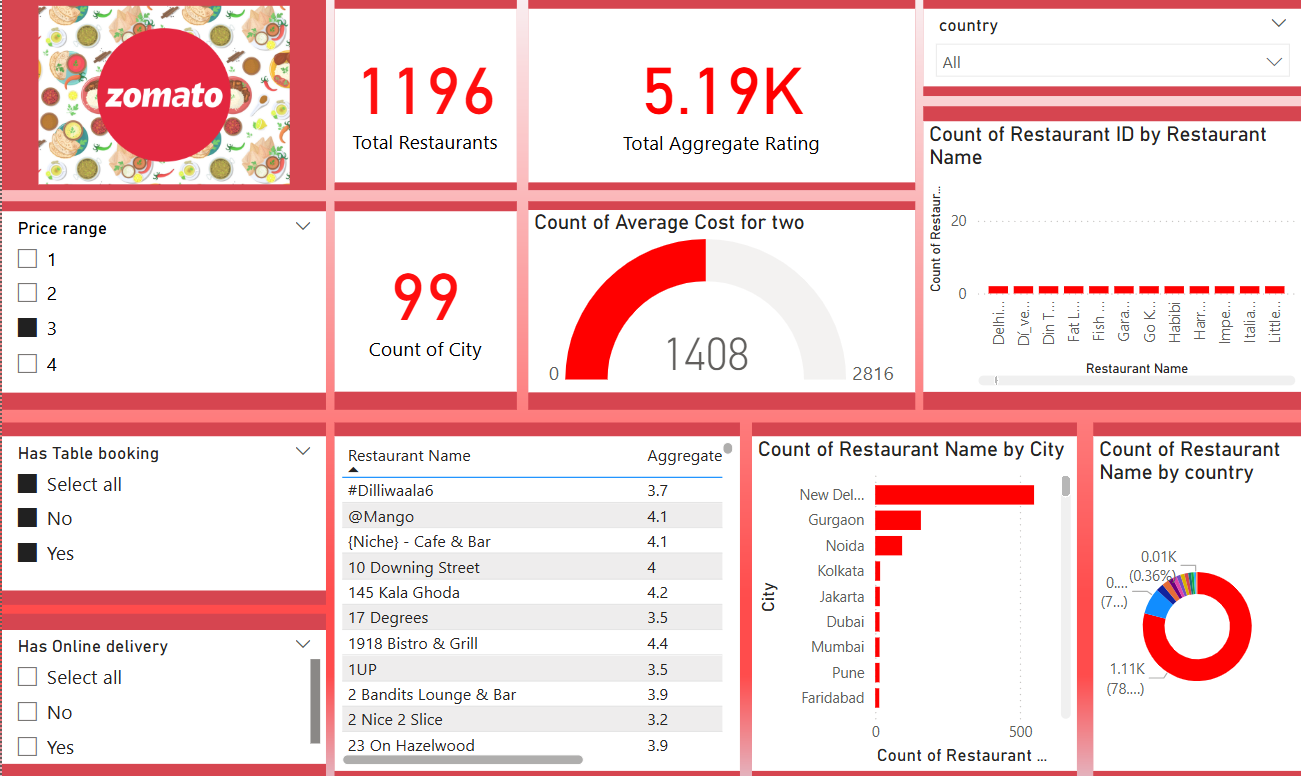

The page's visual inventory and layout, read from the dashboard file:
{"tool":"powerbi","page":{"name":"Page 1","canvas":[1280,720],"ordinal":0},"visuals":[{"type":"textbox","box":[274,0,150,157],"z":0},{"type":"textbox","box":[434,0,319,157],"z":1000},{"type":"textbox","box":[434,166,319,172],"z":2000},{"type":"textbox","box":[274,166,150,172],"z":3000},{"type":"textbox","box":[760,88,312,250],"z":4000},{"type":"textbox","box":[900,348,172,295],"z":5000},{"type":"textbox","box":[619,348,268,295],"z":6000},{"type":"textbox","box":[274.2,348.5,334,294.8],"z":7000},{"type":"textbox","box":[0,348.5,267,150.5],"z":8000},{"type":"textbox","box":[0,166,267,172.2],"z":9000},{"type":"slicer","fields":{"Values":["zomato.Price range"]},"box":[0,174.2,267,149.5],"z":10000},{"type":"slicer","fields":{"Values":["zomato.Has Table booking"]},"box":[0,359.8,267,126.8],"z":11000},{"type":"textbox","box":[0,0,267.4,157],"z":12000},{"type":"tableEx","fields":{"Values":["zomato.Restaurant Name","zomato.Aggregate rating","zomato.Average Cost for two"]},"box":[274.2,359.8,334,276.3],"z":13000},{"type":"image","box":[23.3,0,219.8,157],"z":14000},{"type":"textbox","box":[0,506.2,267,137.1],"z":15000},{"type":"slicer","fields":{"Values":["zomato.Has Online delivery"]},"box":[0,519.6,267,110.3],"z":16000},{"type":"donutChart","fields":{"Category":["zomato.country"],"Y":["CountNonNull(zomato.Restaurant Name)"]},"box":[900,360,172,276],"z":17000},{"type":"barChart","fields":{"Y":["CountNonNull(zomato.Restaurant Name)"],"Category":["zomato.City"]},"box":[619,360,268,276],"z":18000},{"type":"gauge","fields":{"Y":["CountNonNull(zomato.Average Cost for two)"]},"box":[434,173,319,150],"z":19000},{"type":"clusteredColumnChart","fields":{"Y":["CountNonNull(zomato.Restaurant ID)"],"Category":["zomato.Restaurant Name"]},"box":[760,100,312,223],"z":20000},{"type":"card","fields":{"Values":["zomato.Total Aggregate Rating"]},"box":[434,7,319,143],"z":21000},{"type":"textbox","box":[760,0,312,79],"z":22000},{"type":"slicer","fields":{"Values":["zomato.country"]},"box":[760,7,312,64],"z":23000},{"type":"card","fields":{"Values":["Count(zomato.City)"]},"box":[274,174,150,149],"z":24000},{"type":"card","fields":{"Values":["Sheet1.TotalRestaurants"]},"box":[274.5,7.1,150,142.9],"z":25000}]}

Visuals, with their boxes on the page's 1280x720 design canvas (x1, y1, x2, y2). These are canvas units, not pixel positions in the 1301x776 screenshot, which may show the page scaled, cropped or inside an application window:
textbox: 274/0/424/157
textbox: 434/0/753/157
textbox: 434/166/753/338
textbox: 274/166/424/338
textbox: 760/88/1072/338
textbox: 900/348/1072/643
textbox: 619/348/887/643
textbox: 274/348/608/643
textbox: 0/348/267/499
textbox: 0/166/267/338
slicer - zomato.Price range: 0/174/267/324
slicer - zomato.Has Table booking: 0/360/267/487
textbox: 0/0/267/157
tableEx - zomato.Restaurant Name x zomato.Aggregate rating: 274/360/608/636
image: 23/0/243/157
textbox: 0/506/267/643
slicer - zomato.Has Online delivery: 0/520/267/630
donutChart - zomato.country x CountNonNull(zomato.Restaurant Name): 900/360/1072/636
barChart - CountNonNull(zomato.Restaurant Name) x zomato.City: 619/360/887/636
gauge - CountNonNull(zomato.Average Cost for two): 434/173/753/323
clusteredColumnChart - CountNonNull(zomato.Restaurant ID) x zomato.Restaurant Name: 760/100/1072/323
card - zomato.Total Aggregate Rating: 434/7/753/150
textbox: 760/0/1072/79
slicer - zomato.country: 760/7/1072/71
card - Count(zomato.City): 274/174/424/323
card - Sheet1.TotalRestaurants: 274/7/424/150
